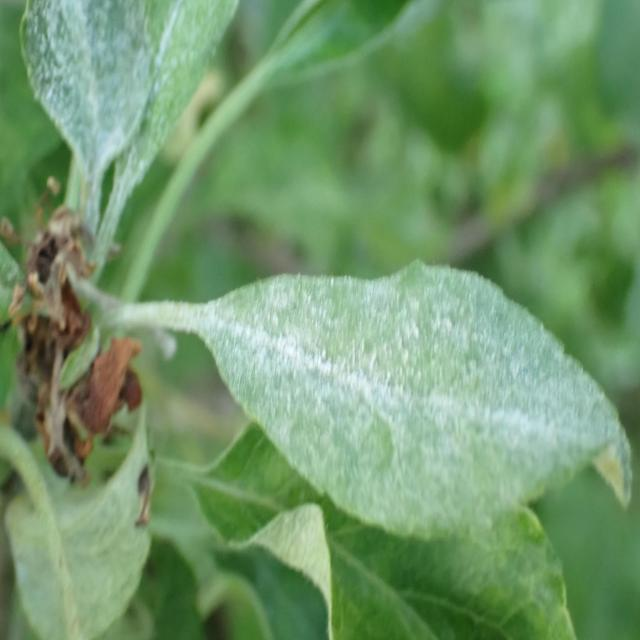Powdery_mildew: (210, 253, 586, 513), (84, 0, 247, 166), (15, 2, 162, 186)
